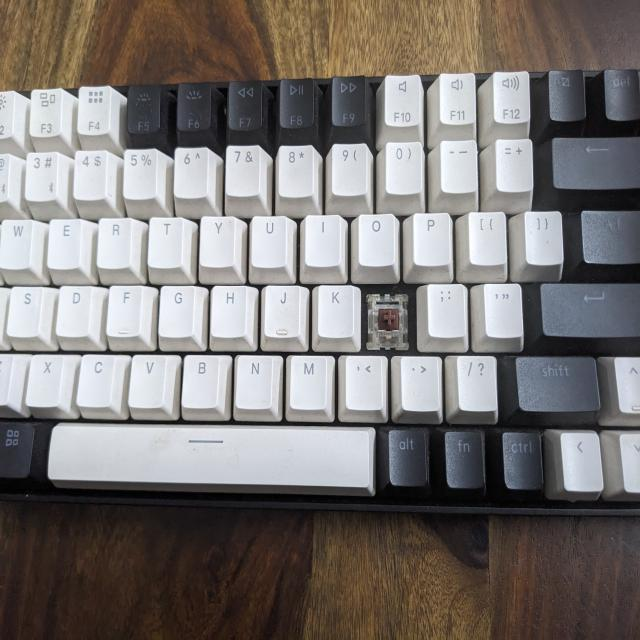C: (366, 290, 409, 352)
